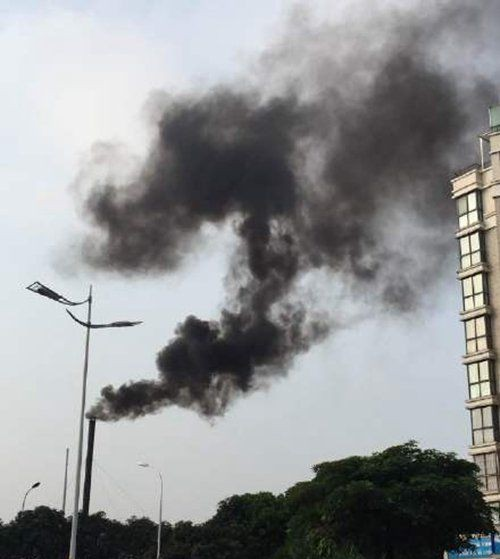dust: (69, 328, 304, 430)
